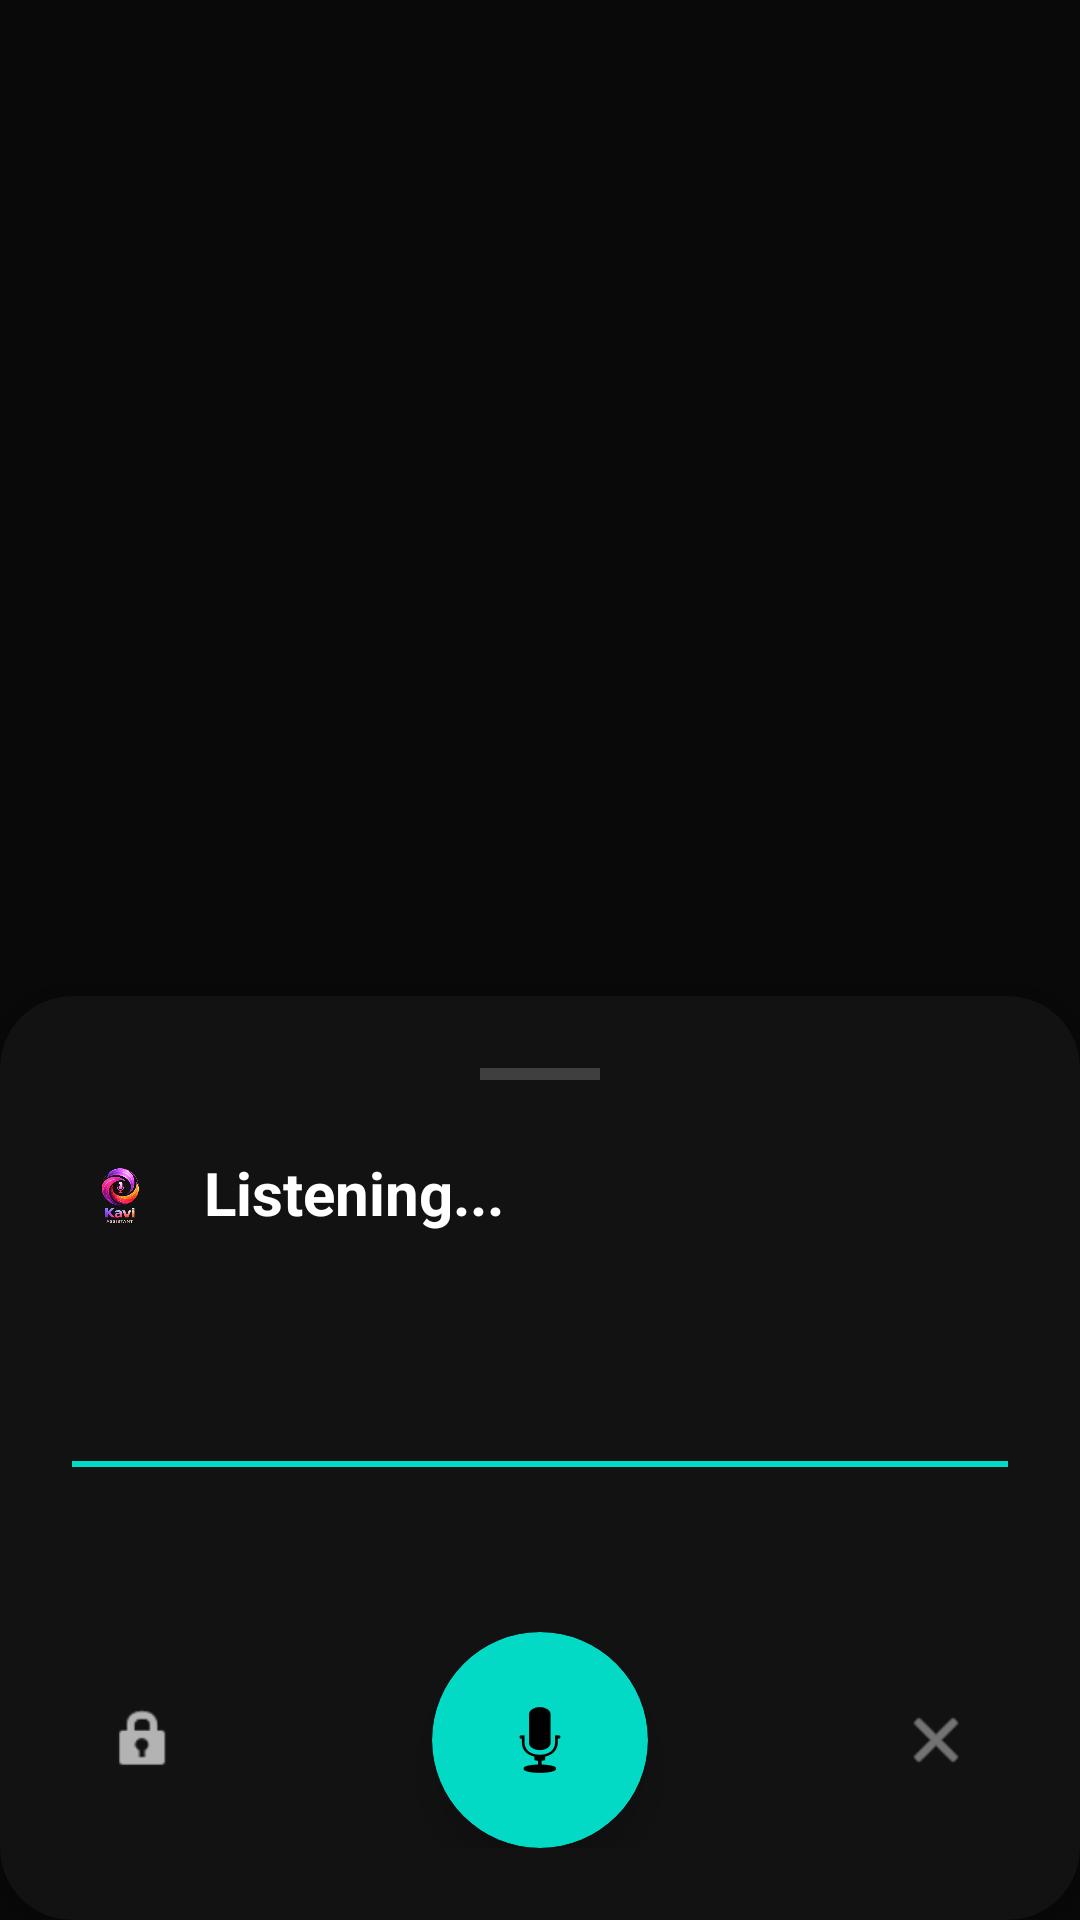

Named icons in this screenshot (1080×1920) and their bounding boxes, (x1, y1, x2, y2):
close clear cancel: (914, 1718, 958, 1762)
lock idle: (119, 1710, 166, 1765)
speak now: (519, 1707, 561, 1773)
